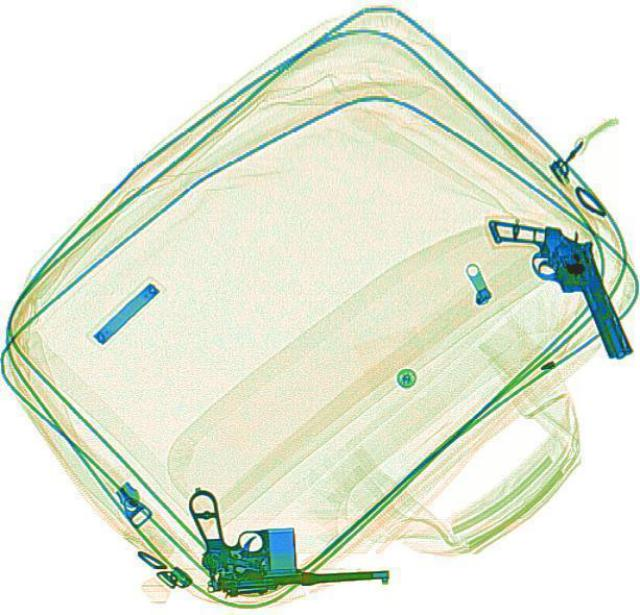Gun: (486, 195, 632, 376), (184, 478, 390, 600)
